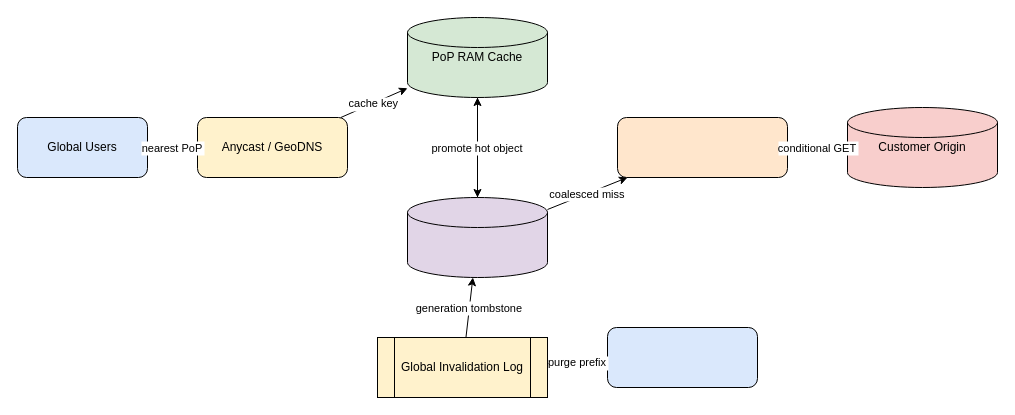
The diagram is 1015 pixels wide and 415 high, and some of its shapes have lost their labels. Here are the shapes that lost their labels. From the top down, the box of each, then its label:
(616, 116, 788, 178): Regional Origin Shield
(406, 196, 548, 278): PoP SSD Cache
(606, 326, 758, 388): Invalidation API
